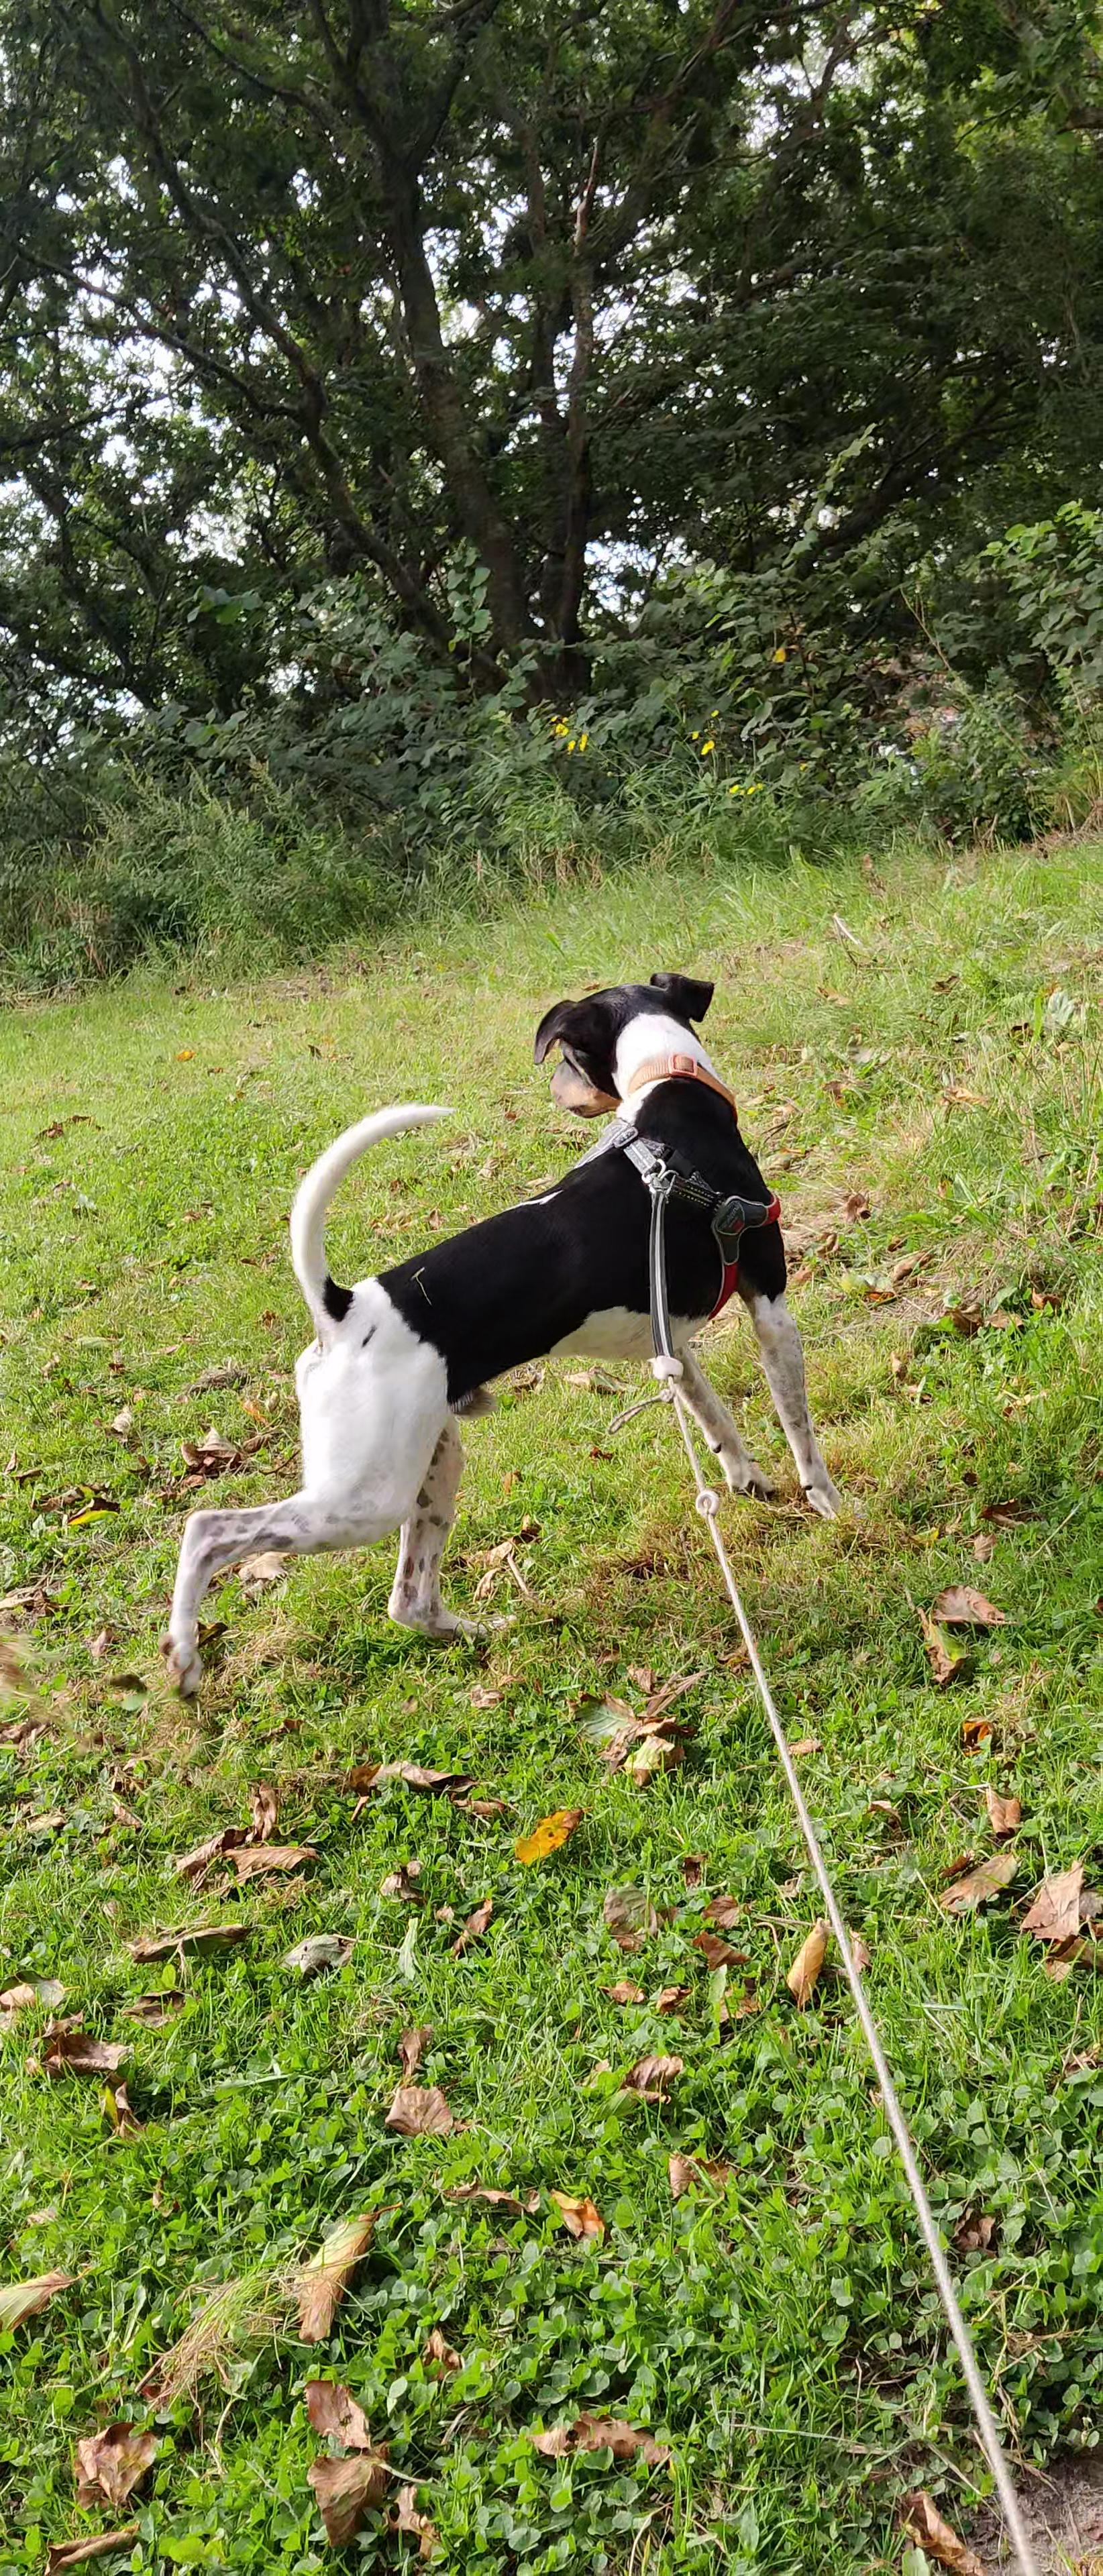Dog: (133, 948, 907, 1722)
